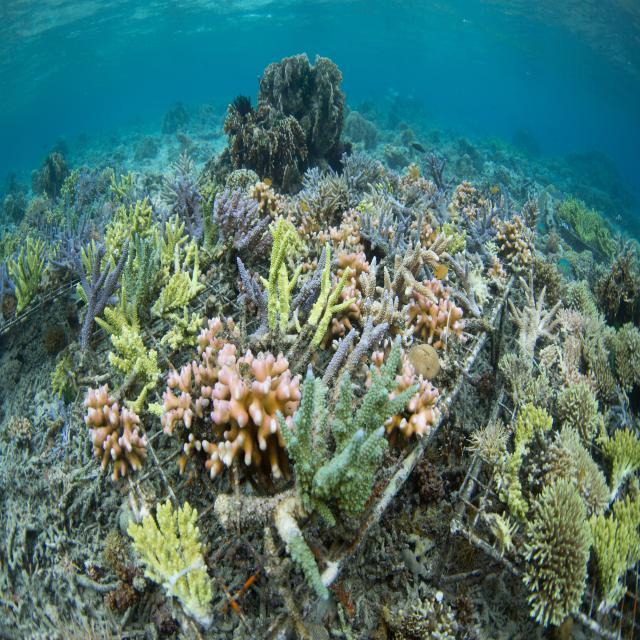Healthy Coral: (228, 175, 482, 348), (263, 345, 436, 593), (95, 192, 190, 372), (161, 331, 284, 466), (124, 496, 224, 634), (3, 196, 103, 304), (529, 475, 593, 625), (497, 270, 574, 363), (77, 391, 151, 482), (503, 393, 553, 463), (490, 211, 539, 270), (555, 387, 609, 435), (611, 322, 640, 383)
